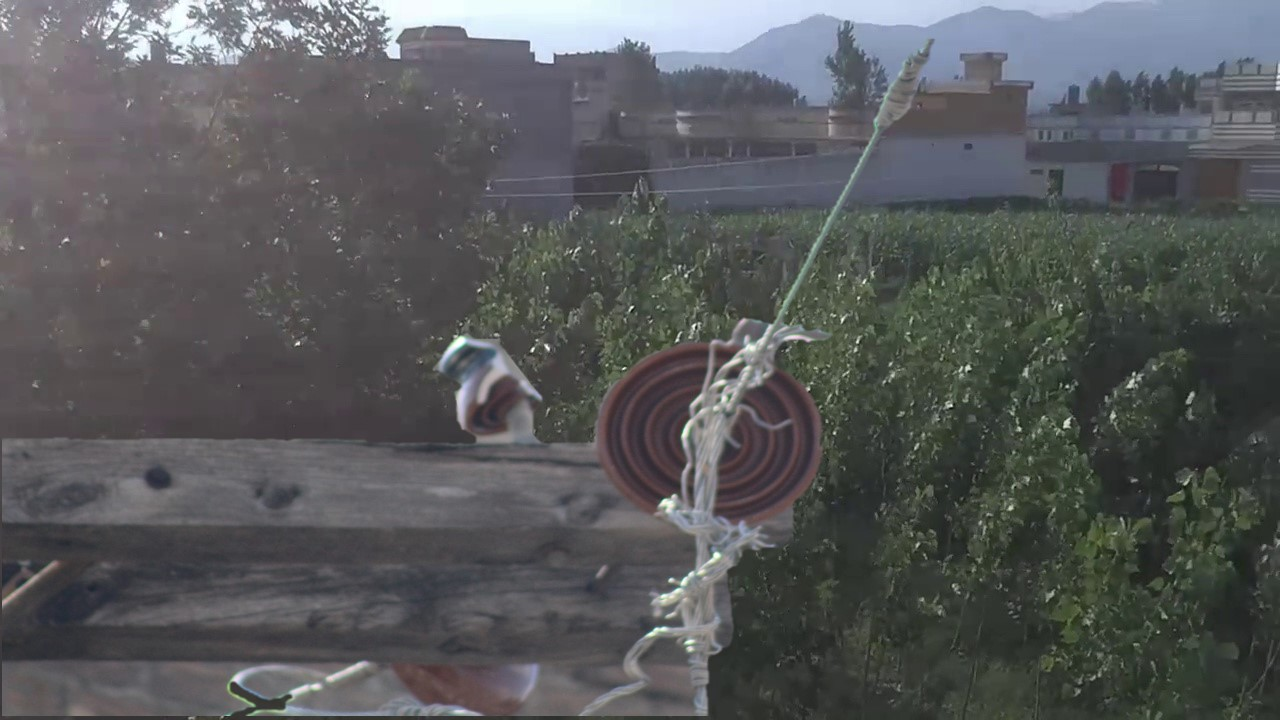defect_pin: (433, 323, 546, 444)
insulator_disc: (594, 339, 826, 529)
